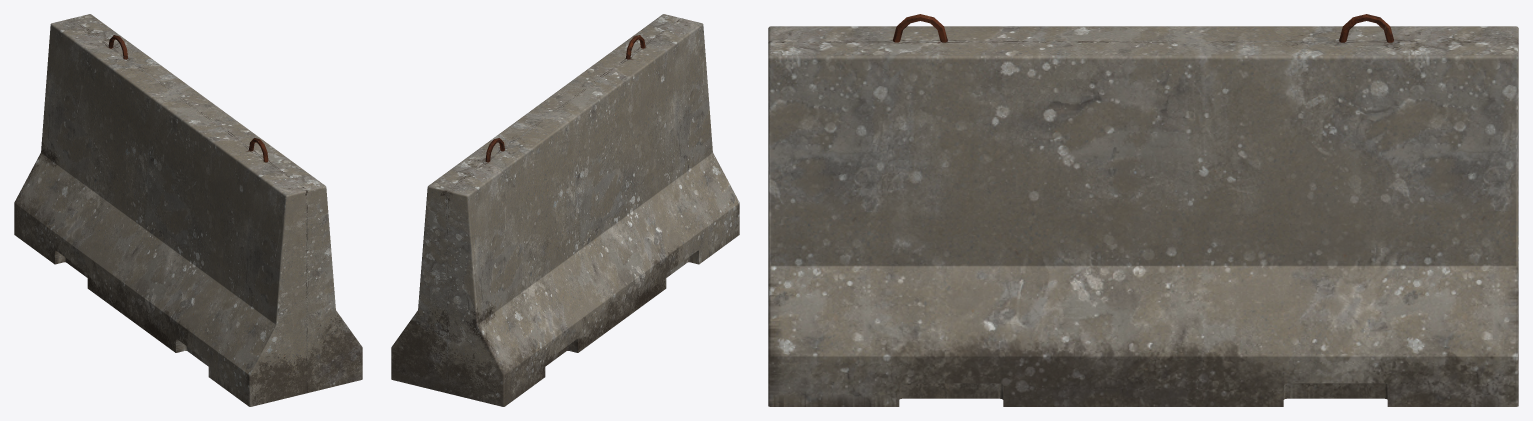
The model's file is concrete_barrier_hq.glb.
3 renders of one model, left to right at view 1: azimuth 30°, elevation 25°; view 2: azimuth 150°, elevation 25°; view 3: azimuth 270°, elevation 25°, orthographic. The views are drawn at different scales.
Parts seen in each view (by area): view 1: Object_3; view 2: Object_3; view 3: Object_3.
Boxes of the visible parts, x1,y1,x2,y2 form: Object_3: (14,14,362,406); Object_3: (391,14,739,406); Object_3: (768,14,1518,406).
Bounding box in the file's own units: 27.09 × 50.1 × 97.65.
1 material, 1 textured.
